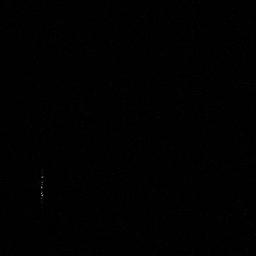ship: (38, 171, 45, 203)
